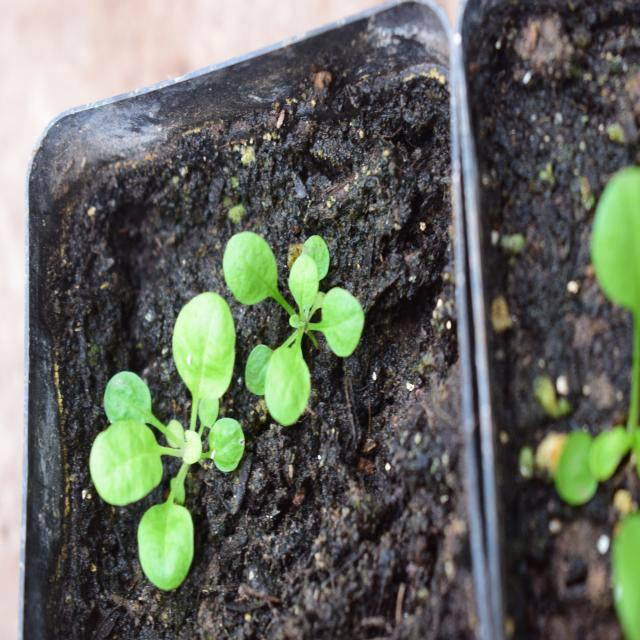Shepherd_Purse: (91, 281, 251, 591), (228, 225, 372, 422)
